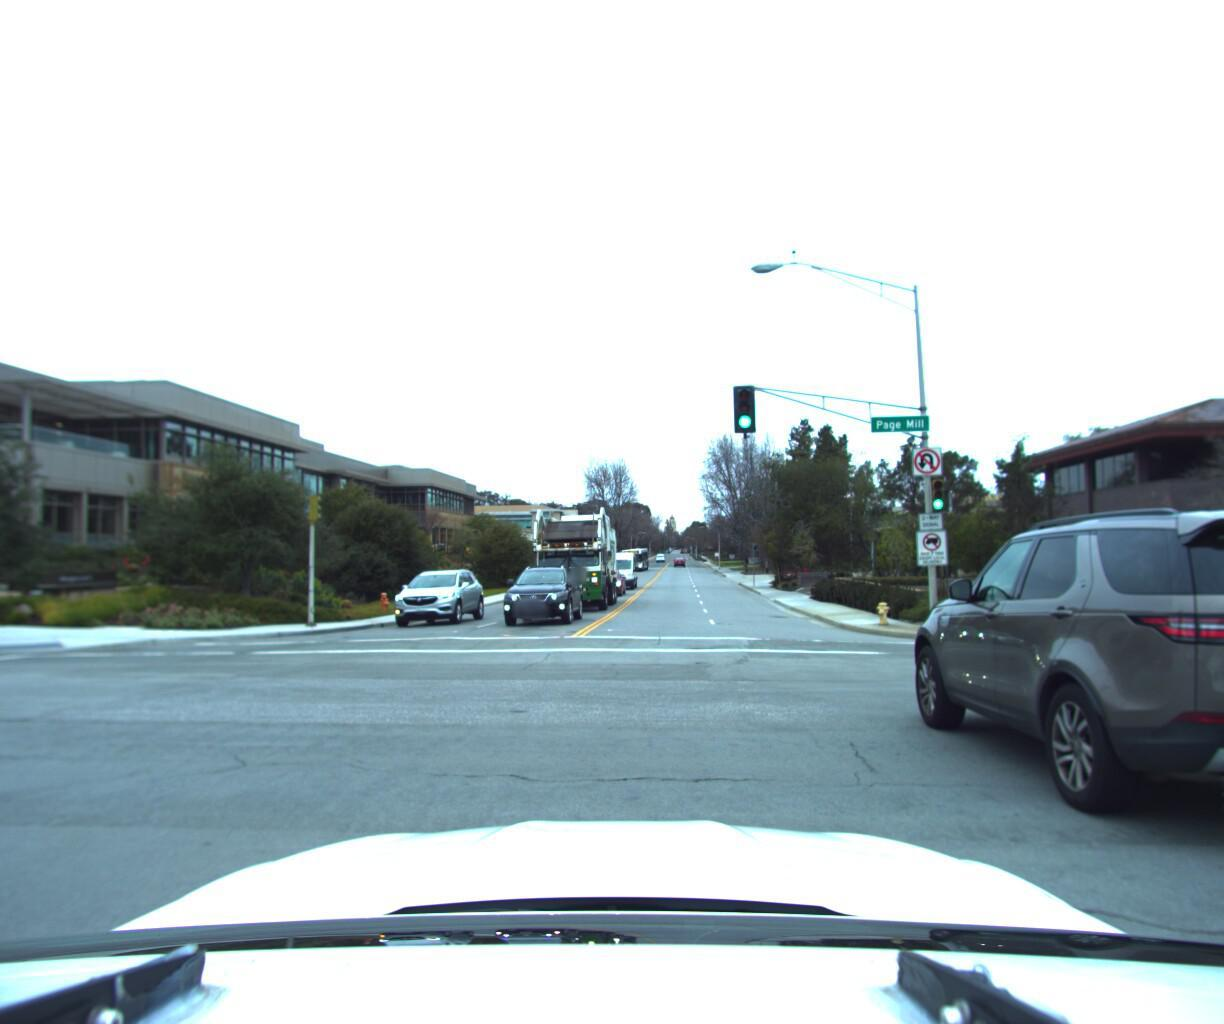car: (891, 489, 1224, 892), (387, 562, 490, 625), (501, 561, 587, 629), (600, 549, 638, 589), (588, 565, 626, 597)
truck: (529, 501, 624, 616)
